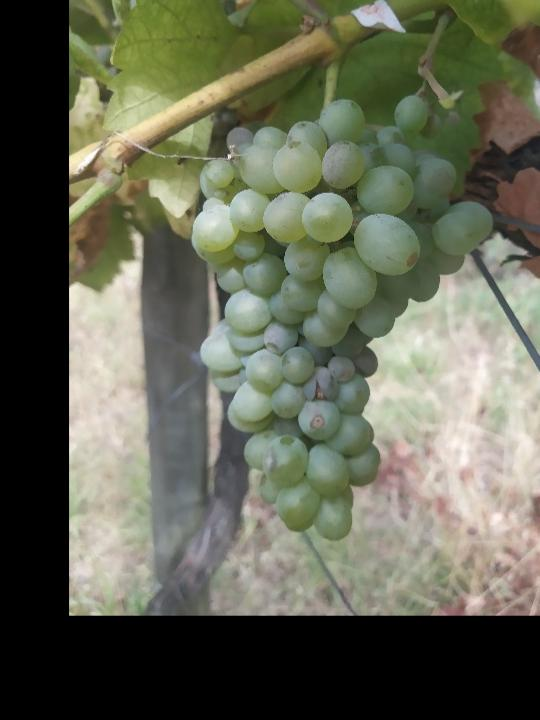grape: (192, 93, 497, 547)
